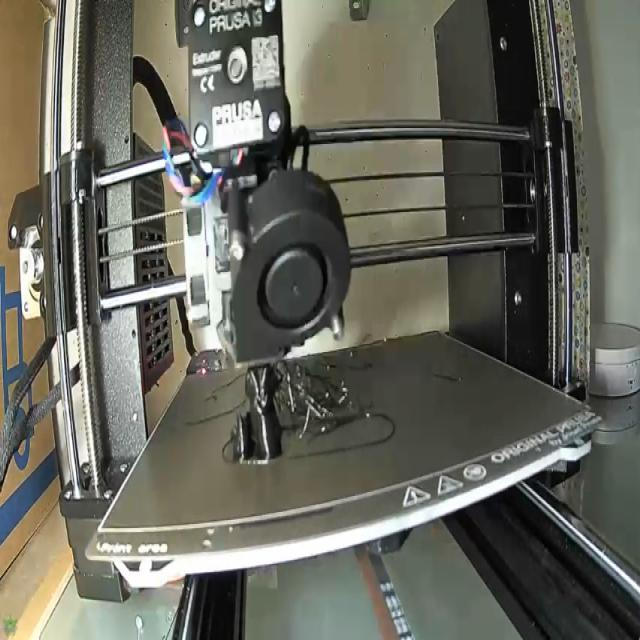spaghetti: (266, 344, 364, 446)
